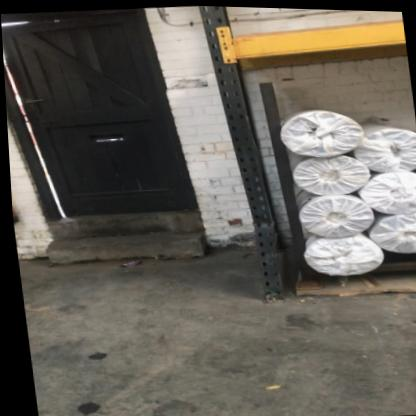vertical_damage: (245, 198, 284, 249)
